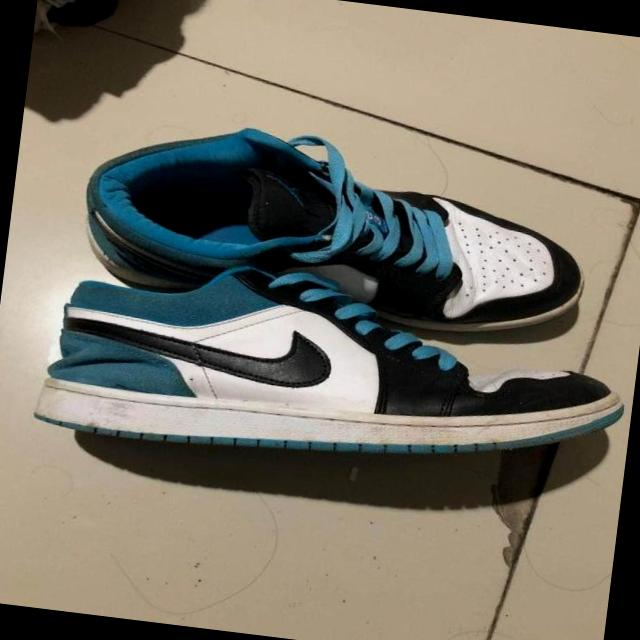nike_fake_jordan: (31, 243, 638, 498), (69, 108, 600, 352)
